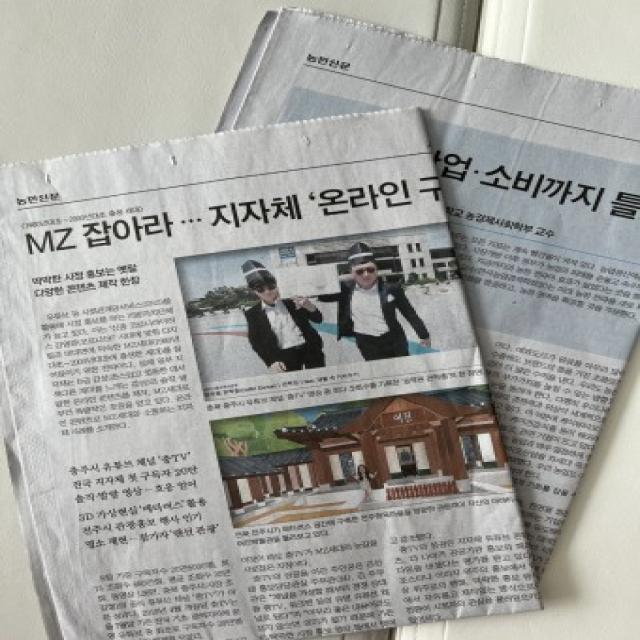Newspaper: (0, 108, 547, 640), (209, 12, 640, 575)
